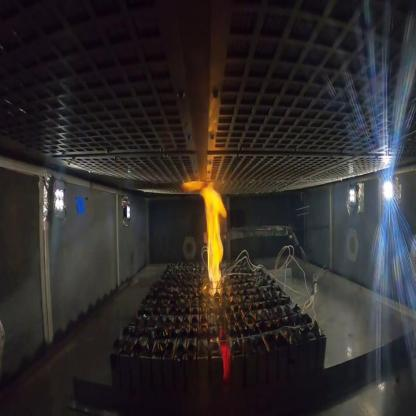fire: (196, 177, 229, 296)
